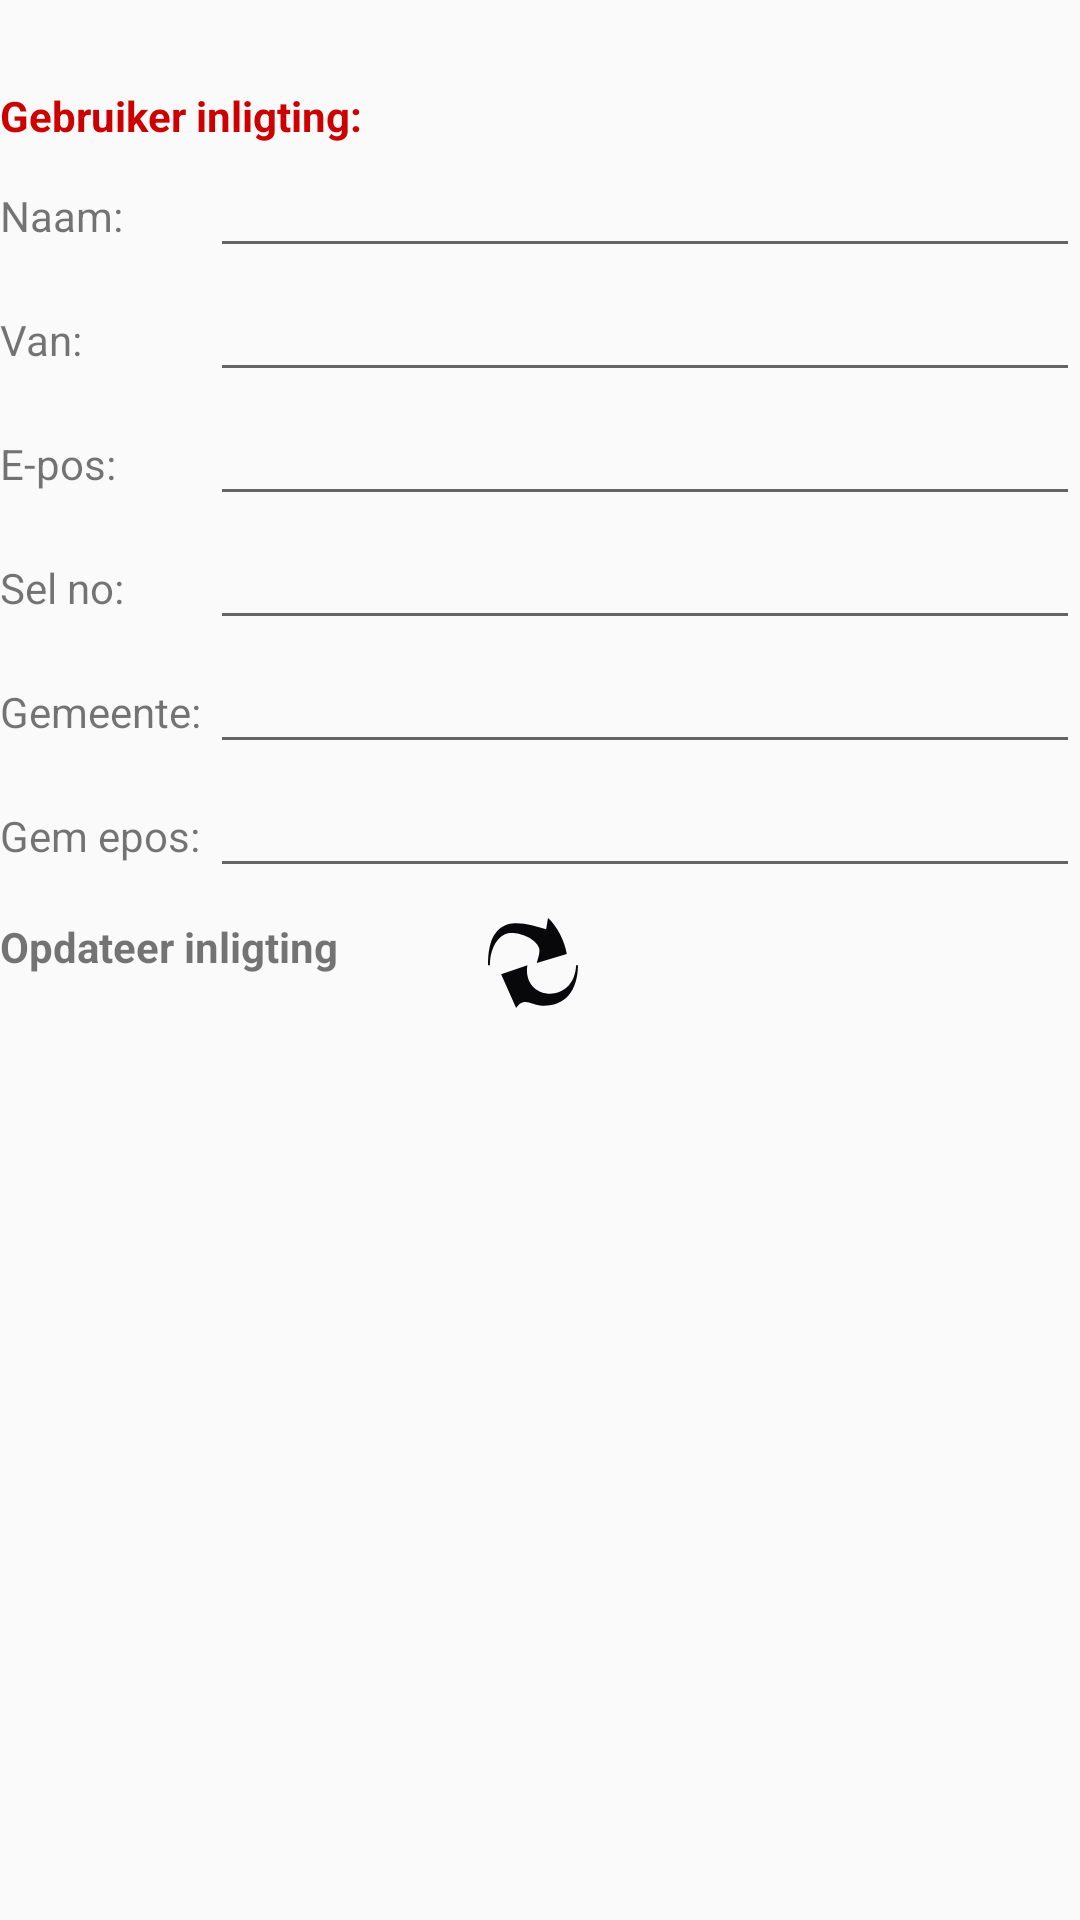

Icons on this 1080px×1920px Android screen, each with its box as (x1, y1, x2, y2):
update: (488, 918, 578, 1008)
